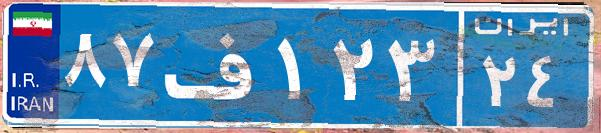1: (273, 28, 330, 110)
2: (330, 28, 385, 110), (475, 38, 525, 113)
3: (385, 28, 445, 110)
4: (525, 38, 570, 115)
7: (110, 28, 158, 105)
8: (57, 26, 110, 107)
ف: (158, 15, 273, 115)
